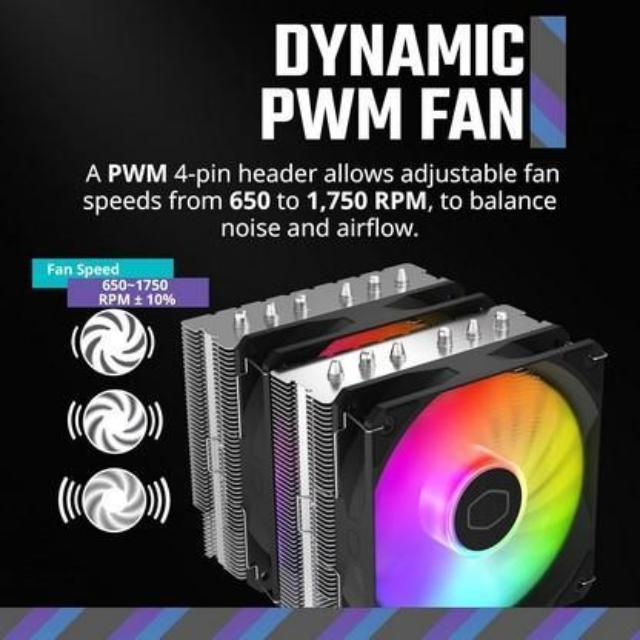CPU_Fan: (177, 260, 603, 632)
